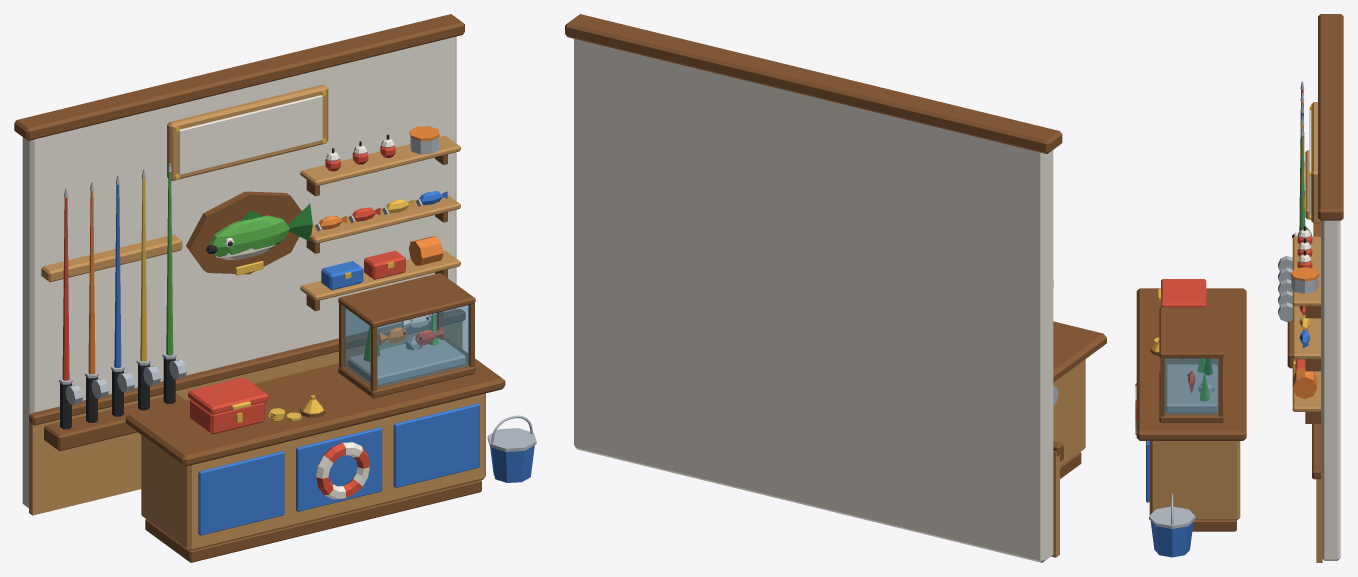
Rendered from tackle-shop-counter.glb.
3 renders of one model, left to right at view 1: azimuth 30°, elevation 25°; view 2: azimuth 150°, elevation 25°; view 3: azimuth 270°, elevation 25°, orthographic. The views are drawn at different scales.
Parts seen in each view (by area): view 1: BackWall, Counter_Top, Counter_Body, BackWall_Crown, BackWall_Wainscot, Tank_Water, Sign_Face, Counter_Panel_0, Counter_Panel_2, Plaque, Tank_Lid, BackWall_ChairRail (+24 smaller); view 2: BackWall, BackWall_Crown, Counter_Body, Counter_Top, BackWall_Wainscot; view 3: Counter_Top, Counter_Body, BackWall, BackWall_Crown, Tank_Lid, Tank_Water, Tank_Gravel, CashBox_Lid, BaitBucket, LureShelf_1, LureShelf_2, Tank_Base (+15 smaller).
Boxes of the visible parts, box(x1,y1,x2,y2) form: BackWall: box(22, 36, 456, 508); Counter_Top: box(125, 337, 505, 466); Counter_Body: box(141, 393, 485, 550); BackWall_Crown: box(14, 14, 464, 140); BackWall_Wainscot: box(29, 321, 462, 515); Tank_Water: box(344, 305, 468, 388); Sign_Face: box(178, 95, 322, 174); Counter_Panel_0: box(198, 451, 284, 535); Counter_Panel_2: box(393, 403, 479, 487); Plaque: box(186, 191, 301, 274); Tank_Lid: box(338, 273, 475, 327); BackWall_ChairRail: box(29, 309, 465, 425); BackWall: box(574, 39, 1053, 562); BackWall_Crown: box(565, 14, 1062, 153); Counter_Body: box(1053, 359, 1085, 466); Counter_Top: box(1053, 321, 1106, 382); BackWall_Wainscot: box(1051, 451, 1059, 557); Counter_Top: box(1136, 288, 1246, 440); Counter_Body: box(1149, 441, 1240, 520); BackWall: box(1321, 220, 1340, 560); BackWall_Crown: box(1318, 14, 1343, 220); Tank_Lid: box(1159, 307, 1223, 358); Tank_Water: box(1164, 358, 1218, 414); Tank_Gravel: box(1165, 364, 1217, 412); CashBox_Lid: box(1161, 279, 1206, 307); BaitBucket: box(1150, 521, 1193, 557); LureShelf_1: box(1292, 305, 1320, 359); LureShelf_2: box(1292, 236, 1320, 306); Tank_Base: box(1159, 371, 1223, 422).
Size of the model in its own units: 14.4 by 12.1 by 6.44.
